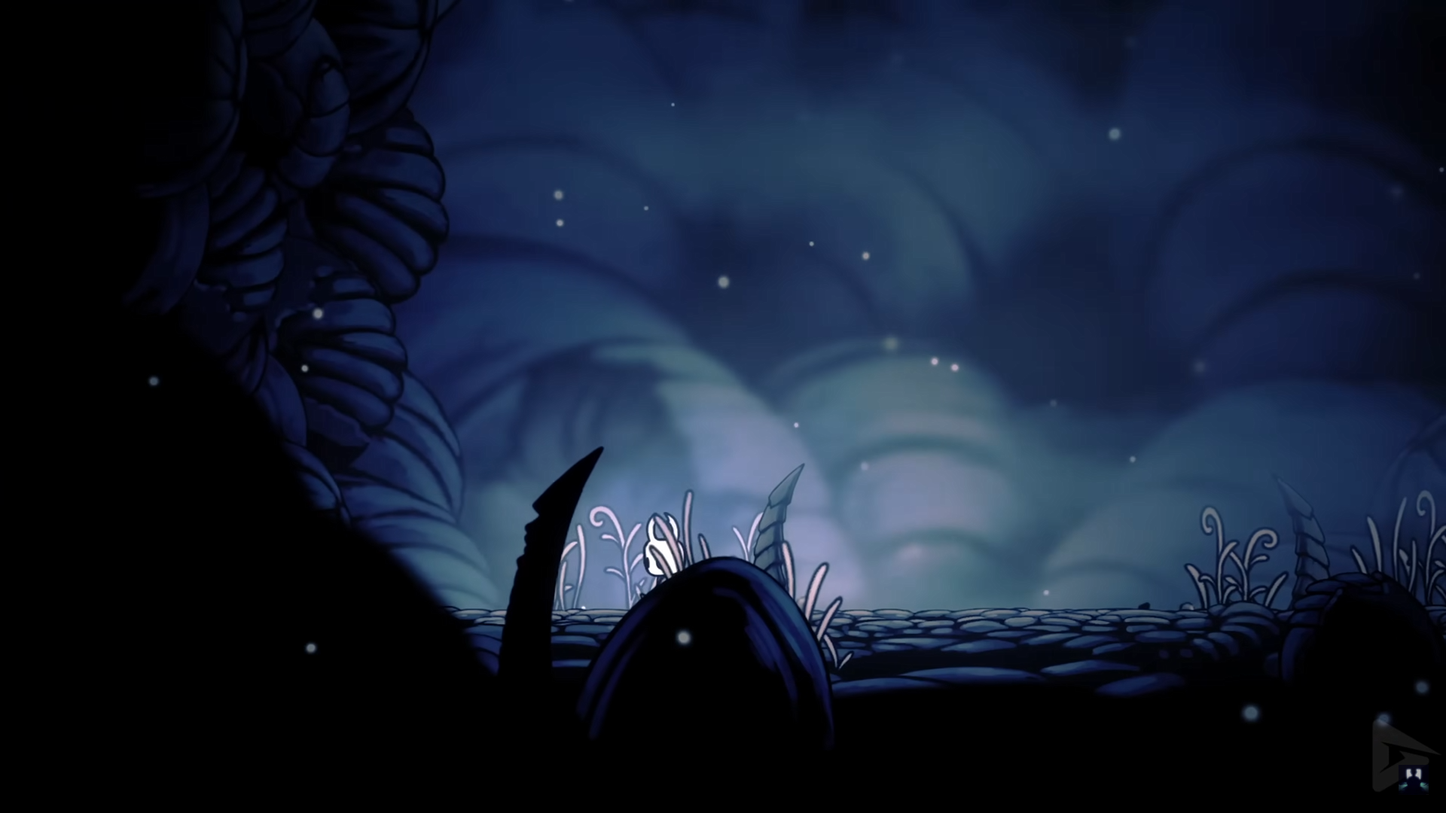HK: (639, 512, 695, 611)
